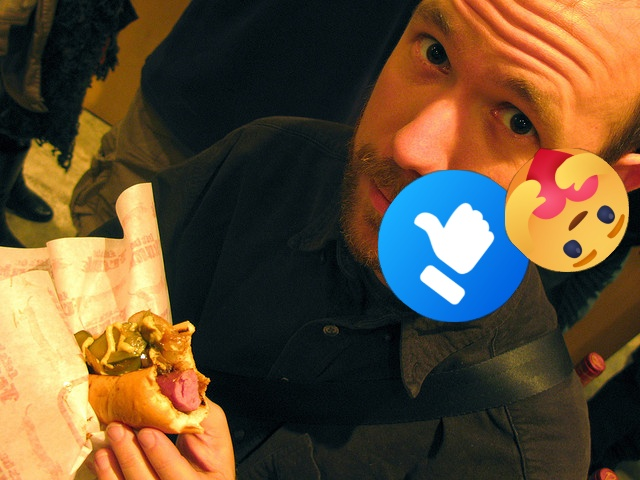care: (505, 148, 629, 272)
like: (378, 170, 530, 322)
